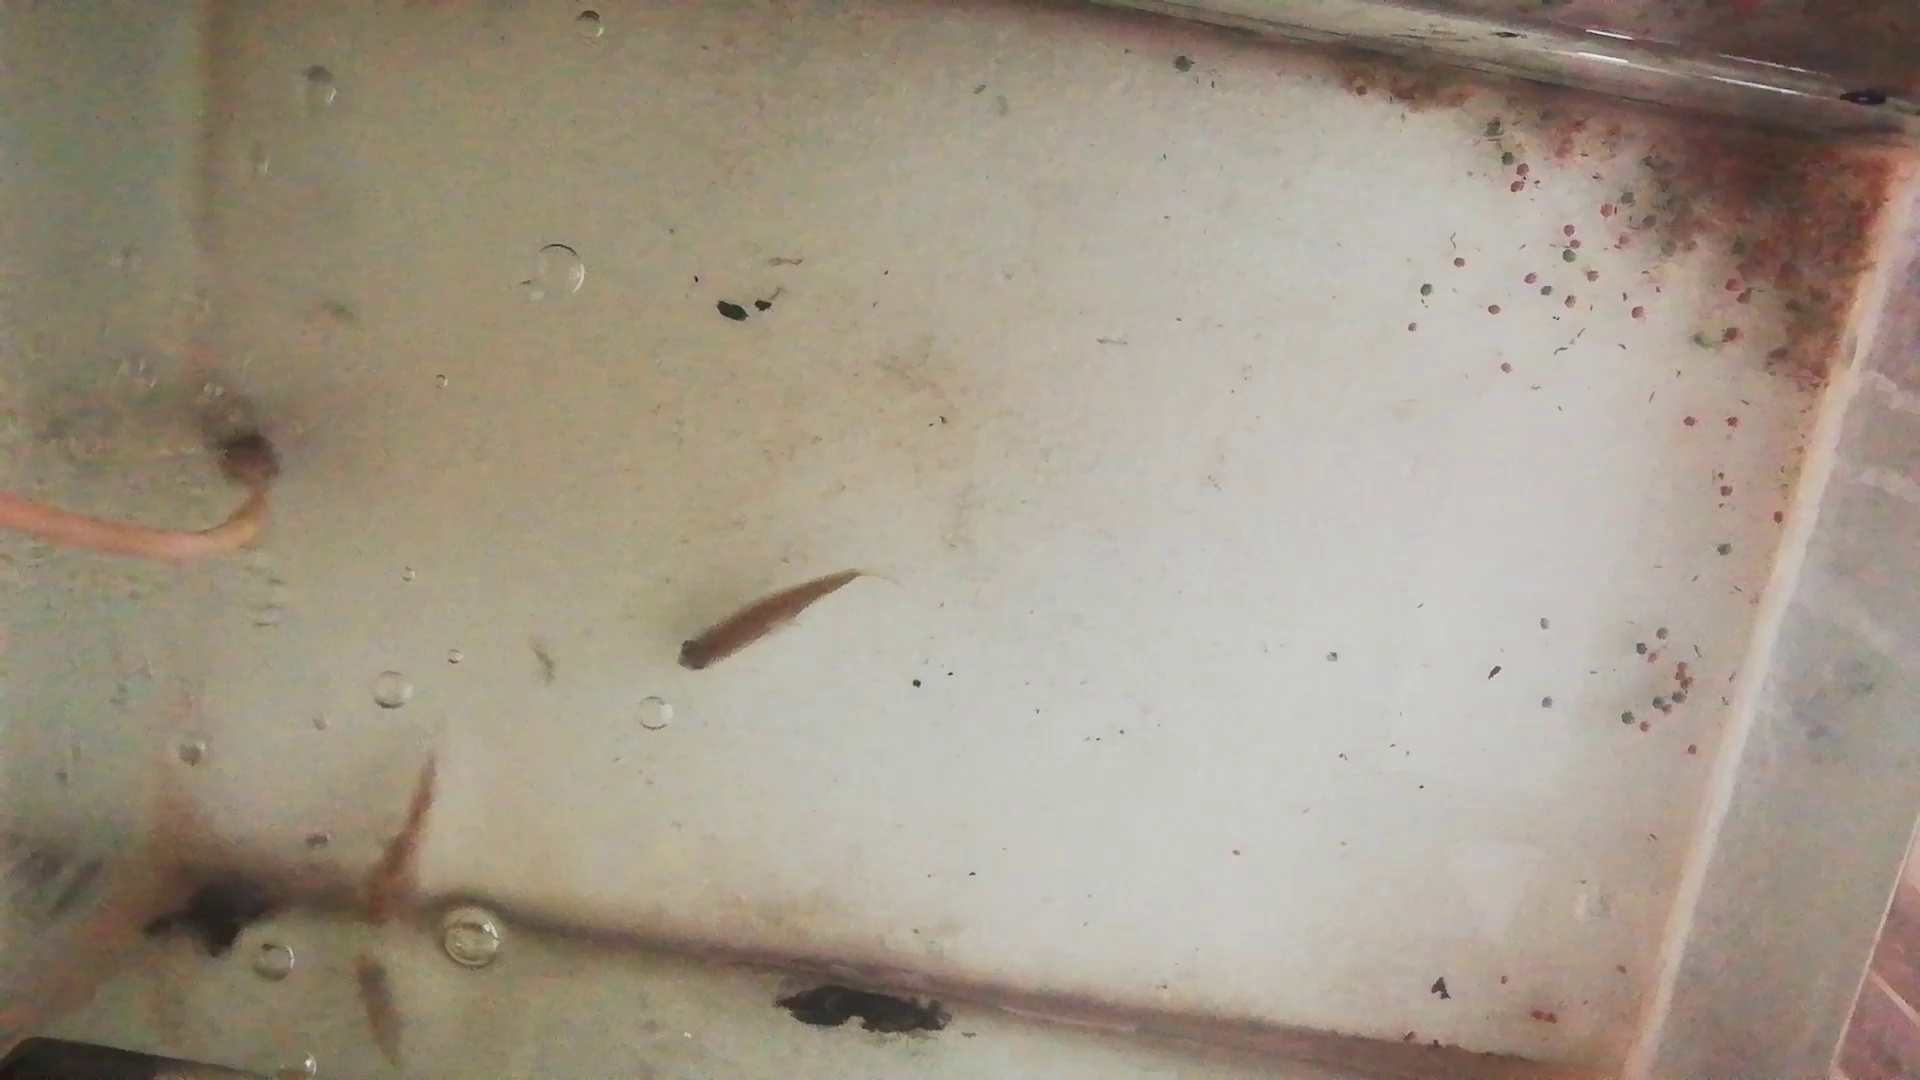fish: (674, 566, 864, 673), (367, 754, 439, 927)
